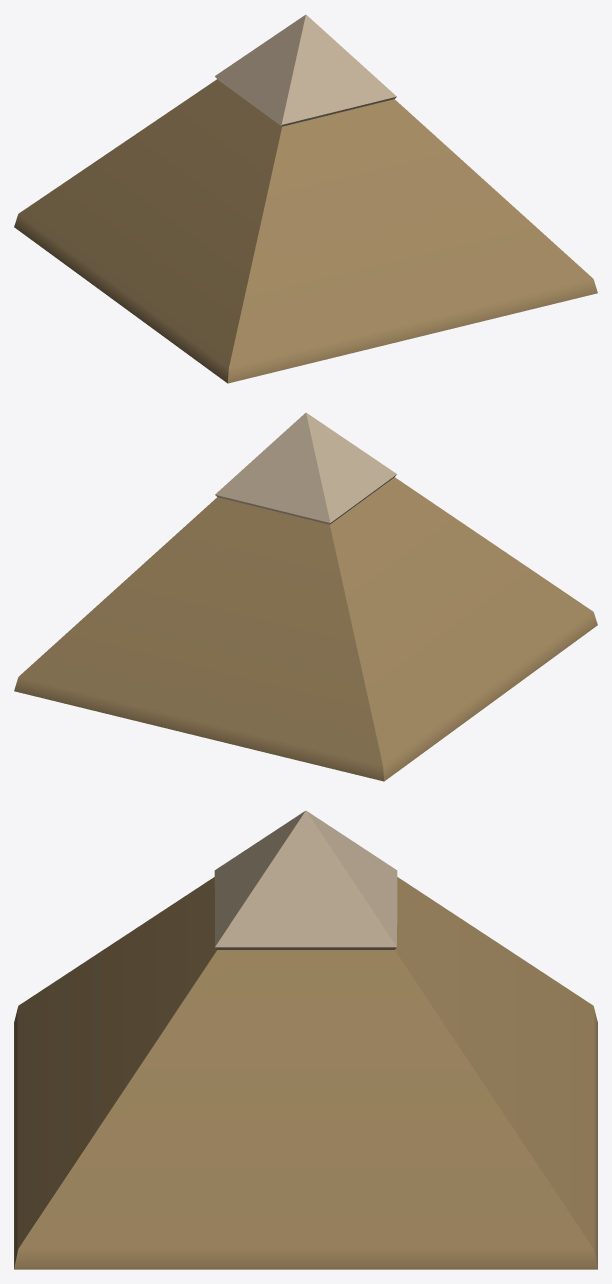
3 renders of one model, top to bottom at view 1: azimuth 30°, elevation 25°; view 2: azimuth 150°, elevation 25°; view 3: azimuth 270°, elevation 25°, orthographic. The views are drawn at different scales.
Visible parts, largest first — view 1: SM_Pyramid:SM_Pyramid1; view 2: SM_Pyramid:SM_Pyramid1; view 3: SM_Pyramid:SM_Pyramid1.
Part boxes in pixels (x1=…): SM_Pyramid:SM_Pyramid1: x1=14, y1=14, x2=597, y2=383; SM_Pyramid:SM_Pyramid1: x1=14, y1=412, x2=597, y2=781; SM_Pyramid:SM_Pyramid1: x1=14, y1=810, x2=597, y2=1269.
Size of the model in its own units: 220 by 140 by 220.
